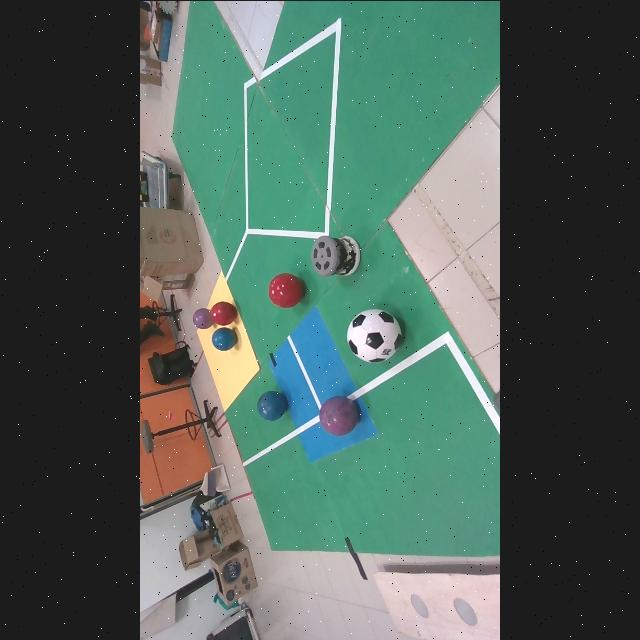B: (257, 390, 289, 420), (212, 327, 237, 351)
P: (320, 395, 359, 435), (193, 307, 213, 328)
R: (269, 272, 304, 306), (210, 301, 238, 324)
